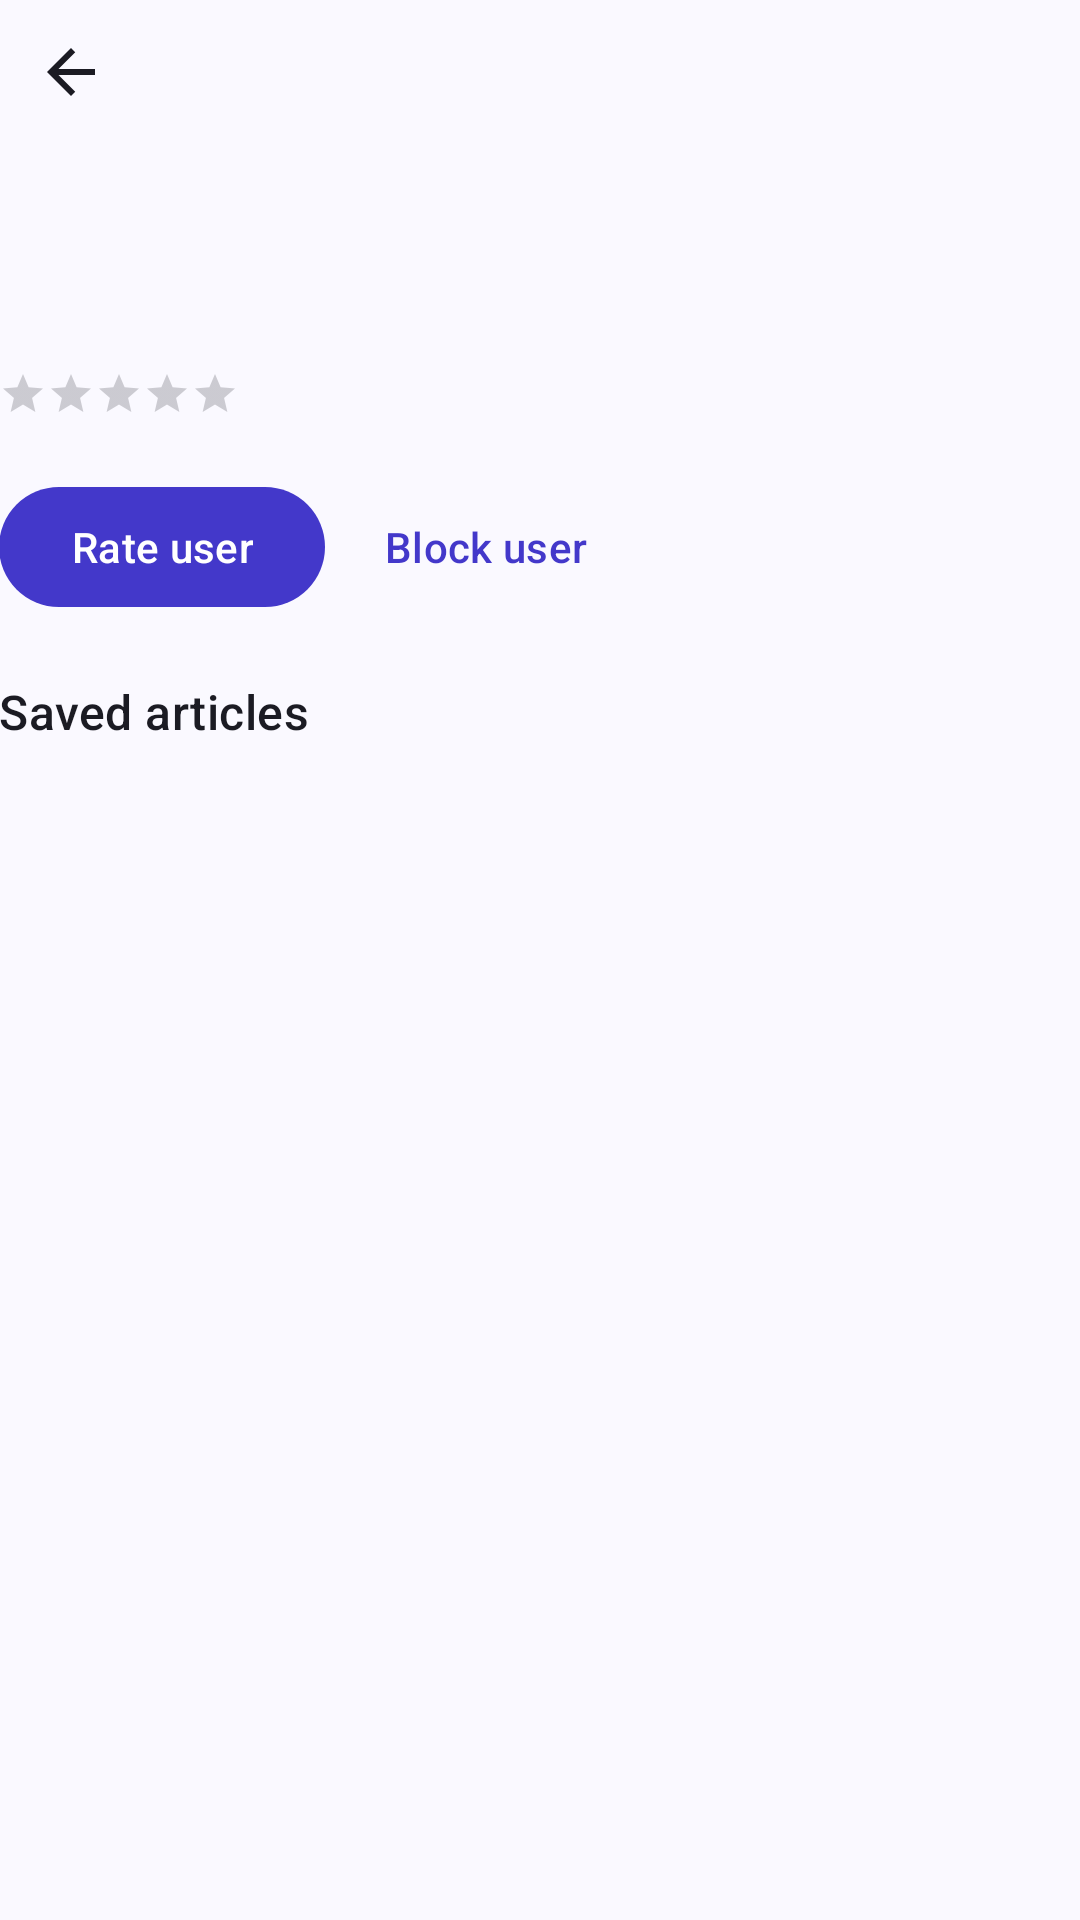

Named icons in this screenshot (1080px×1920px) and their centers, point (x, y):
Back: point (71, 72)
